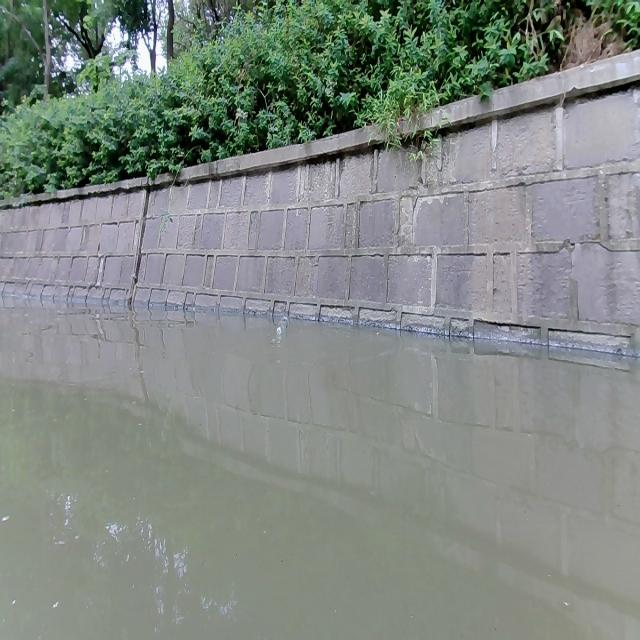bottle: (276, 315, 288, 334)
